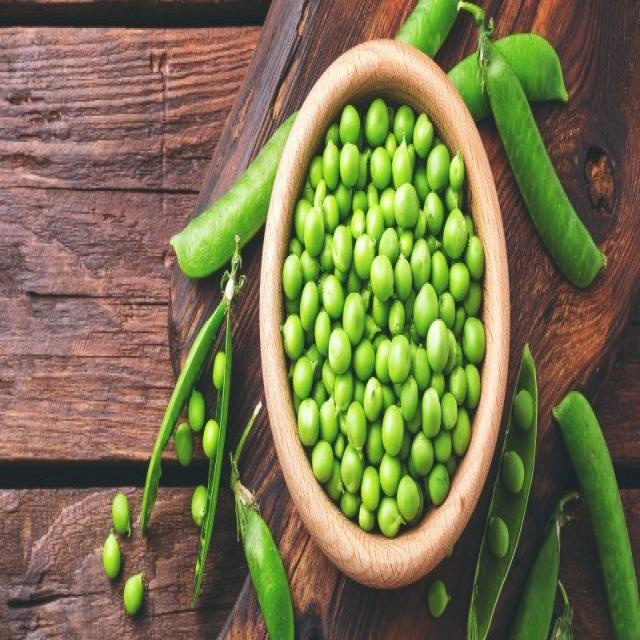pea: (285, 112, 483, 513)
